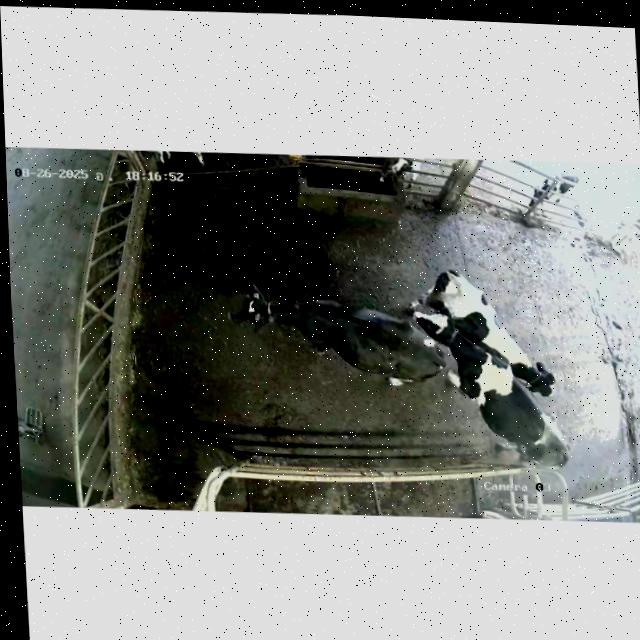stand: (413, 310, 568, 466), (228, 283, 445, 385), (410, 268, 554, 395)
